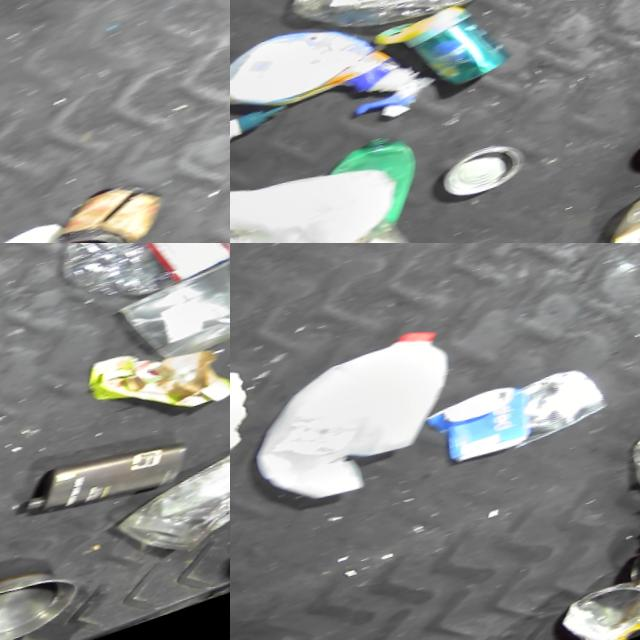can: (44, 172, 181, 243), (510, 367, 616, 458), (438, 143, 536, 216), (560, 574, 640, 640)
milk_jug: (238, 325, 480, 528), (230, 137, 415, 243)
plastic_bottle: (280, 0, 533, 68)
